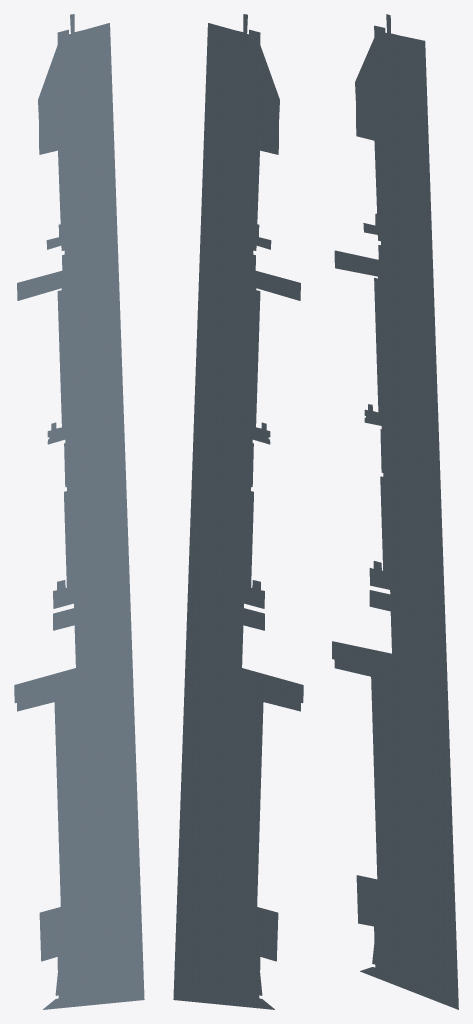
The model's file is floor_28.obj.
3 renders of one model, left to right at view 1: azimuth 30°, elevation 25°; view 2: azimuth 150°, elevation 25°; view 3: azimuth 330°, elevation 25°, orthographic. The views are drawn at different scales.
Parts seen in each view (by area): view 1: floor_28; view 2: floor_28; view 3: floor_28.
Boxes of the visible parts, x1=… form: floor_28: x1=14, y1=14, x2=144, y2=1009; floor_28: x1=173, y1=14, x2=303, y2=1009; floor_28: x1=332, y1=14, x2=458, y2=1009.
Bounding box in the file's own units: 22.32 × 165 × 0.1.
Materials: 1 (1 with a texture image).
